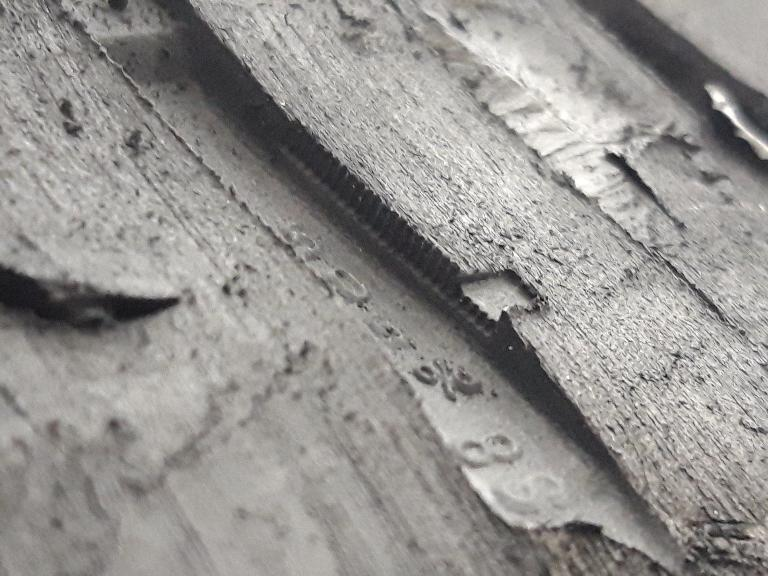temoin:25: (394, 208, 557, 352)
